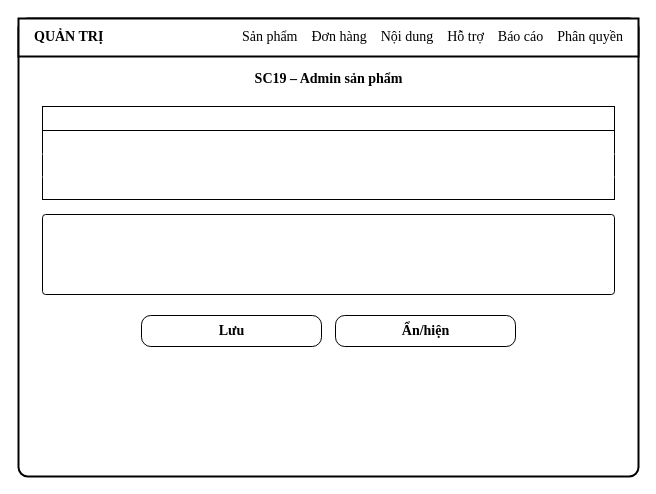
This 656x494 diagram has some shape labels left out. The shapes that lost their labels are listed below. From the top down, each one's centre as x and y in pixels, then its label:
At [328,118]: "Danh sách sản phẩm / danh mục".
At [328,254]: "Thông tin, cấu hình, giá, tồn kho".
